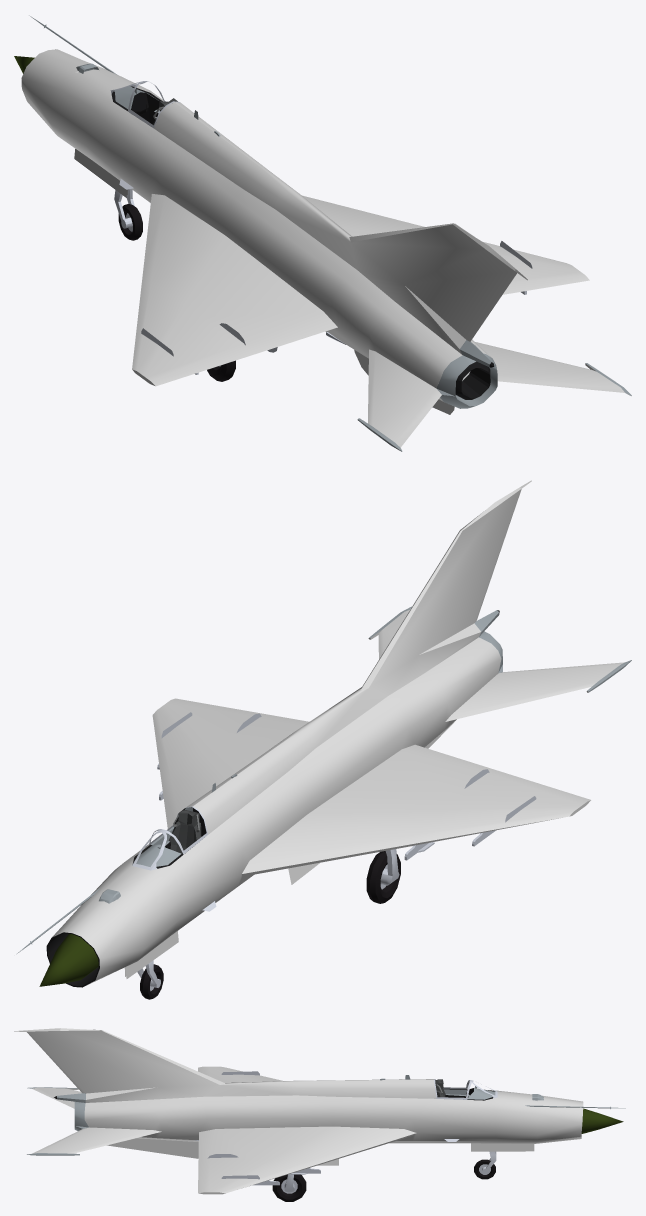
Rendered from mig21.fbx.
3 renders of one model, top to bottom at view 1: azimuth 30°, elevation 25°; view 2: azimuth 150°, elevation 25°; view 3: azimuth 270°, elevation 25°, orthographic. The views are drawn at different scales.
Visible parts, largest first — view 1: Object_5, Object_6; view 2: Object_5, Object_6; view 3: Object_5, Object_6.
Boxes of the visible parts, x1,y1,x2,y2 form: Object_5: (21, 49, 631, 447); Object_6: (14, 15, 631, 451); Object_5: (52, 480, 624, 985); Object_6: (16, 606, 631, 999); Object_5: (14, 1028, 583, 1194); Object_6: (27, 1071, 625, 1201).
Bounding box in the file's own units: 761 × 428 × 1578.
3 materials, 2 textured.
